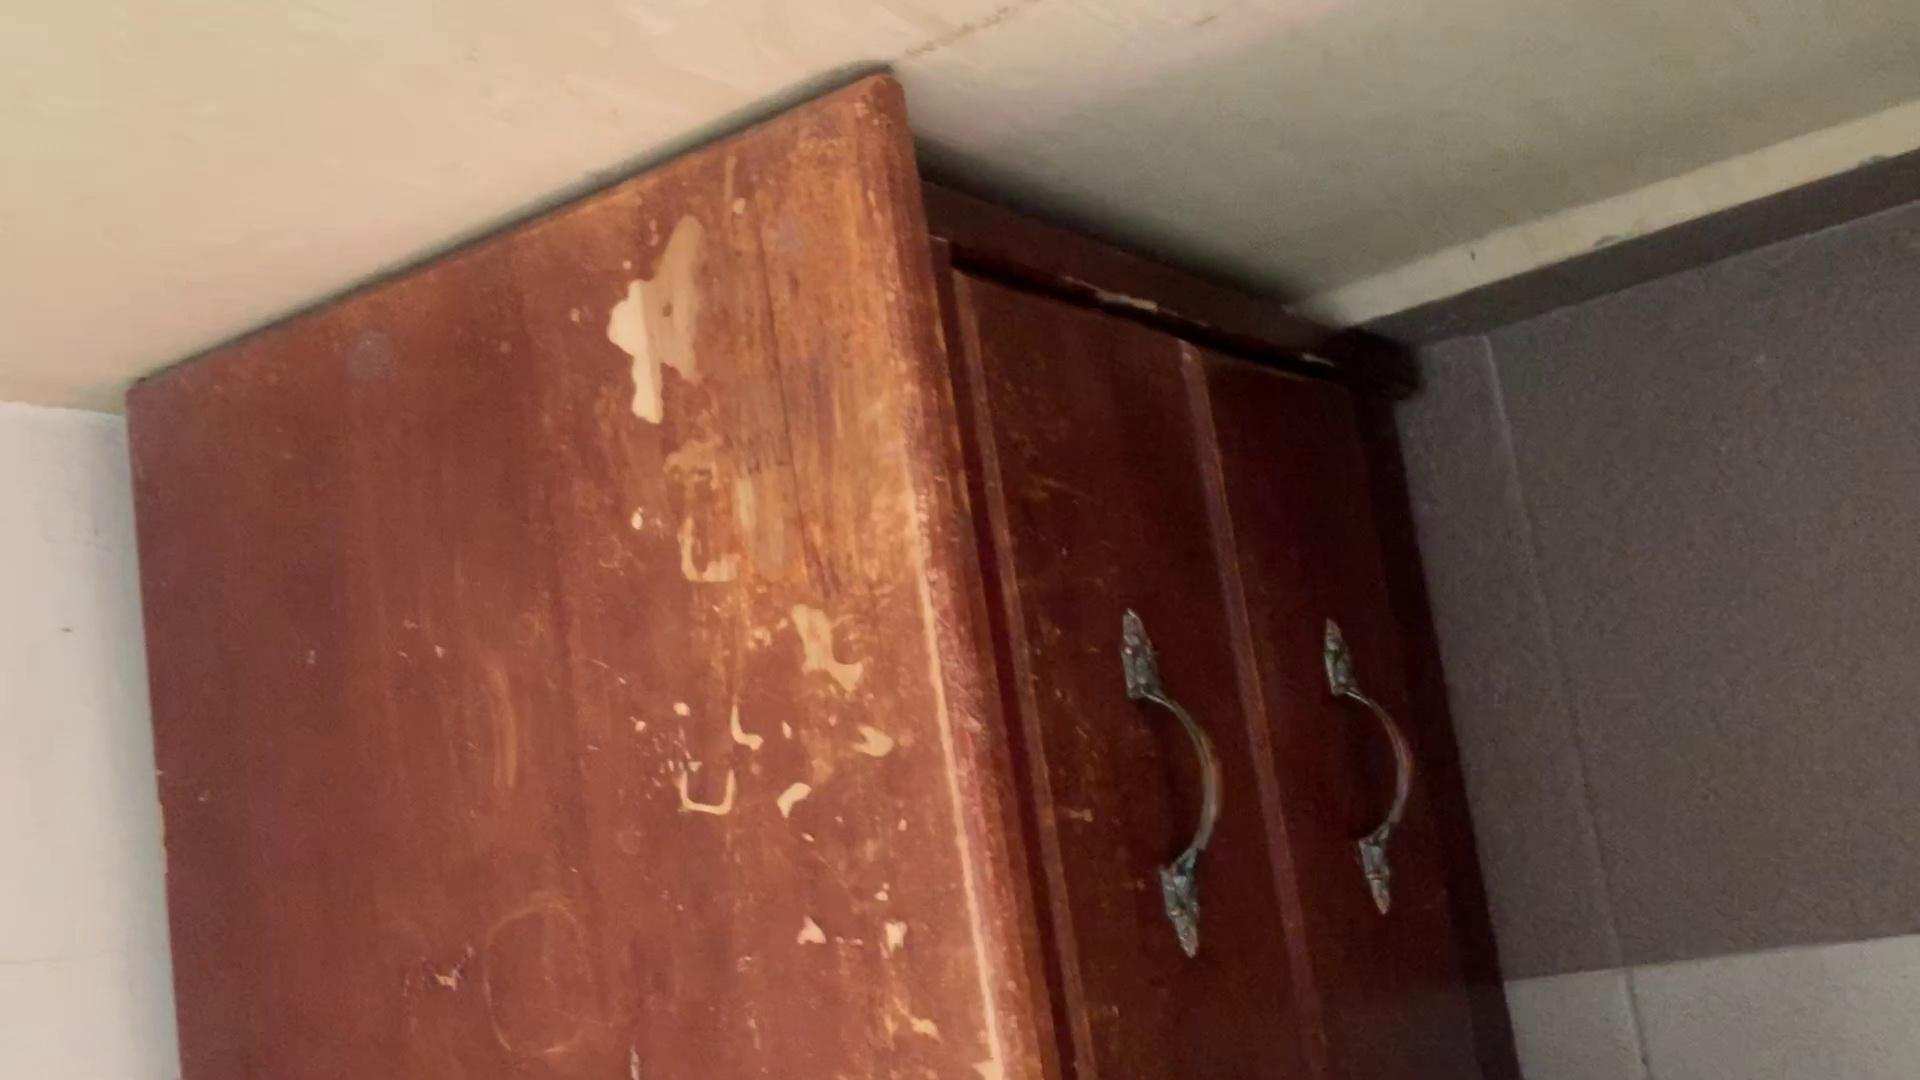cabinet_door: (964, 318, 1246, 1080), (1253, 392, 1461, 1080)
handle: (1117, 601, 1230, 949), (1312, 608, 1435, 918)
